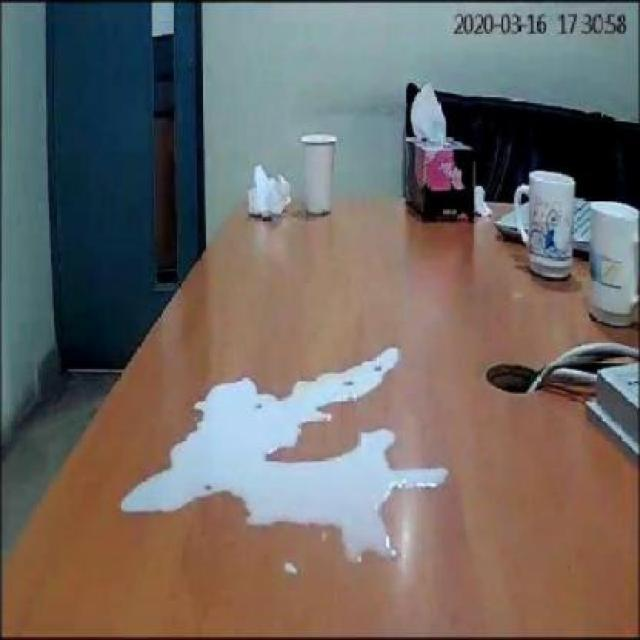spillage: (118, 347, 451, 564)
